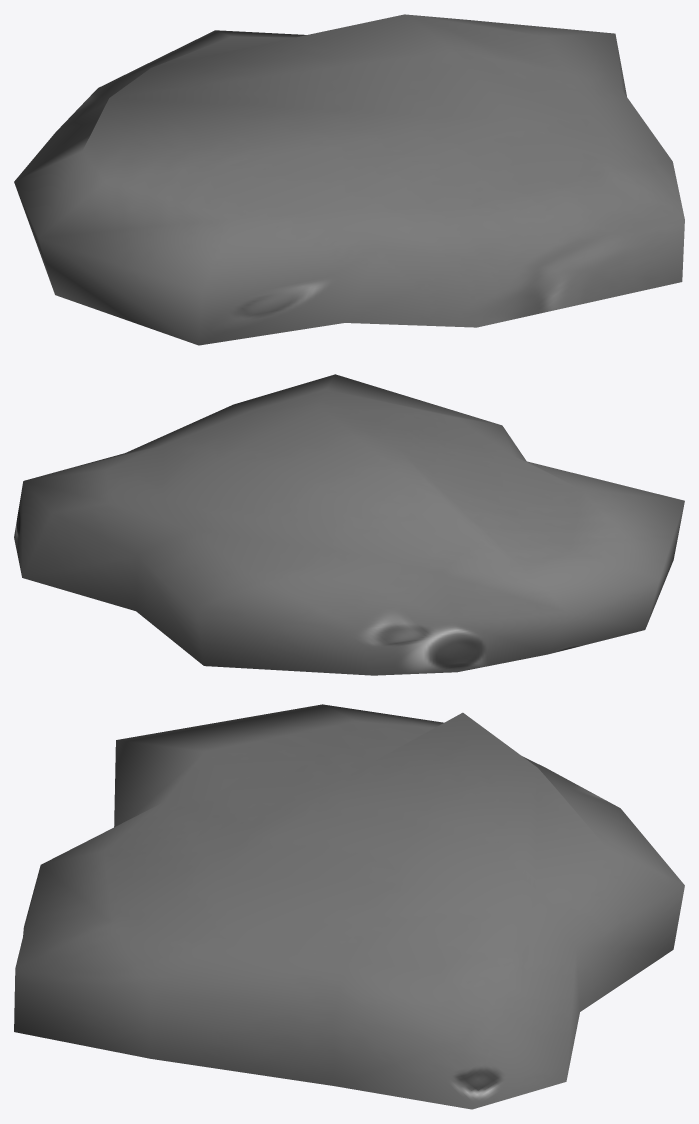
Rendered from SM_PROP_stone_03.fbx.
3 renders of one model, top to bottom at view 1: azimuth 30°, elevation 25°; view 2: azimuth 150°, elevation 25°; view 3: azimuth 270°, elevation 25°, orthographic. The views are drawn at different scales.
Visible parts, largest first — view 1: SM_PROP_stone_03; view 2: SM_PROP_stone_03; view 3: SM_PROP_stone_03.
Boxes of the visible parts, x1,y1,x2,y2 form: SM_PROP_stone_03: (14,14,684,345); SM_PROP_stone_03: (14,374,684,675); SM_PROP_stone_03: (14,704,684,1109).
Bounding box in the file's own units: 83.62 × 14.76 × 69.79.
